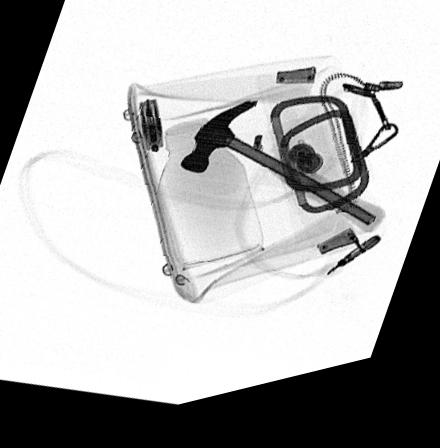Hammer: (178, 112, 387, 253)
